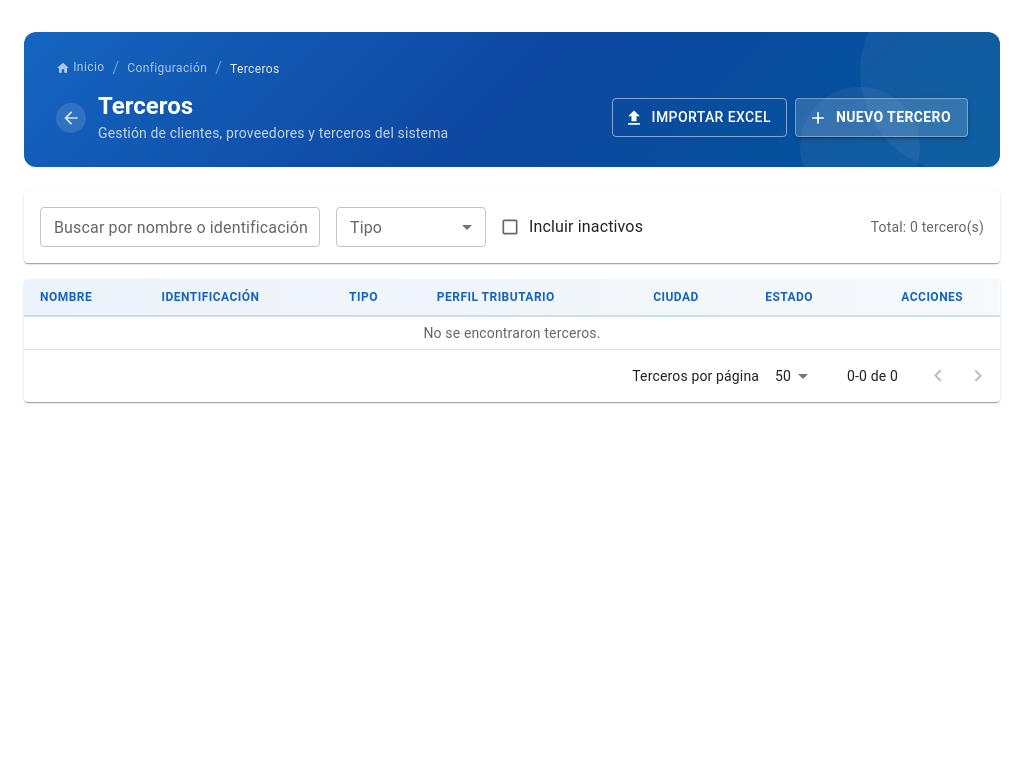
TercerosPage › abre el diálogo de nuevo tercero al hacer clic en el botón
Step 1. Click the button "Nuevo Tercero" → (881,118), box top-left (795, 98), bottom-right (968, 137)
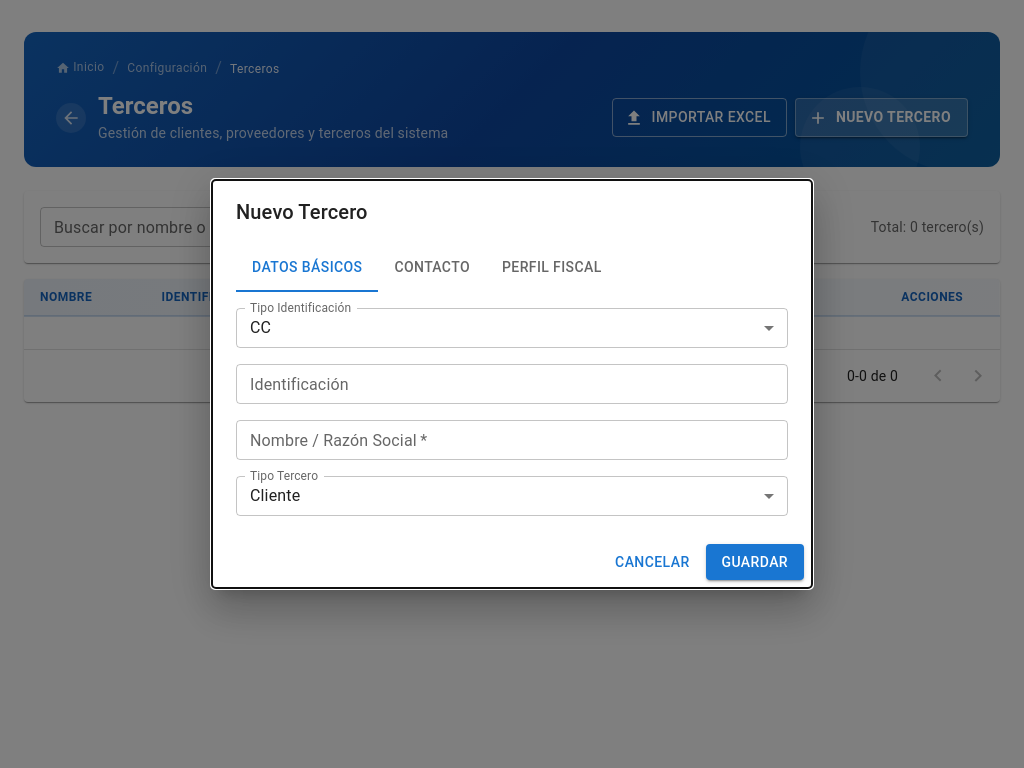
Expected: the heading "Nuevo Tercero" is shown, top-left (236, 200), bottom-right (368, 224)
